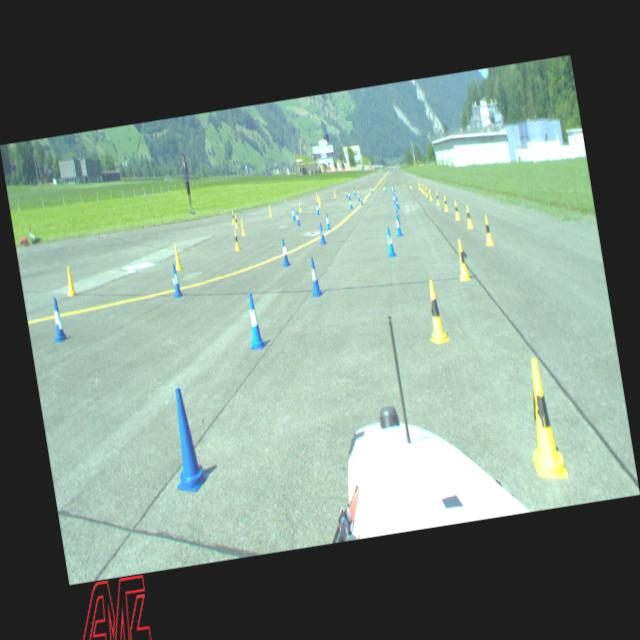blue_cone: (162, 386, 211, 494), (242, 292, 268, 351), (48, 297, 68, 343), (306, 256, 323, 296), (169, 264, 183, 298), (384, 226, 396, 256), (279, 238, 290, 266), (394, 213, 404, 237), (318, 222, 327, 245), (324, 212, 331, 230), (395, 206, 401, 226), (295, 210, 301, 226), (348, 196, 353, 209), (315, 202, 320, 215), (291, 208, 296, 220), (359, 194, 364, 205), (392, 191, 396, 204), (396, 205, 400, 218), (396, 197, 400, 209), (394, 190, 398, 200), (344, 190, 348, 198), (357, 192, 360, 202), (348, 191, 351, 200), (370, 186, 373, 194), (384, 184, 387, 192), (392, 185, 395, 192), (354, 188, 356, 196)
yellow_cone: (518, 356, 568, 483), (421, 279, 450, 345), (454, 239, 471, 281), (63, 266, 77, 296), (482, 214, 494, 246), (172, 244, 182, 270), (463, 204, 473, 229), (232, 229, 241, 251), (452, 200, 460, 220), (240, 218, 247, 236), (443, 196, 449, 212), (434, 190, 440, 206), (233, 214, 239, 228), (428, 188, 433, 201), (231, 211, 236, 224), (268, 205, 273, 218), (317, 196, 321, 208), (298, 201, 302, 212), (424, 186, 428, 197), (318, 196, 322, 204), (316, 192, 319, 202), (356, 185, 359, 194), (420, 183, 423, 192), (409, 180, 412, 188), (382, 183, 385, 190), (422, 184, 424, 194), (418, 182, 420, 190), (334, 188, 336, 196)
